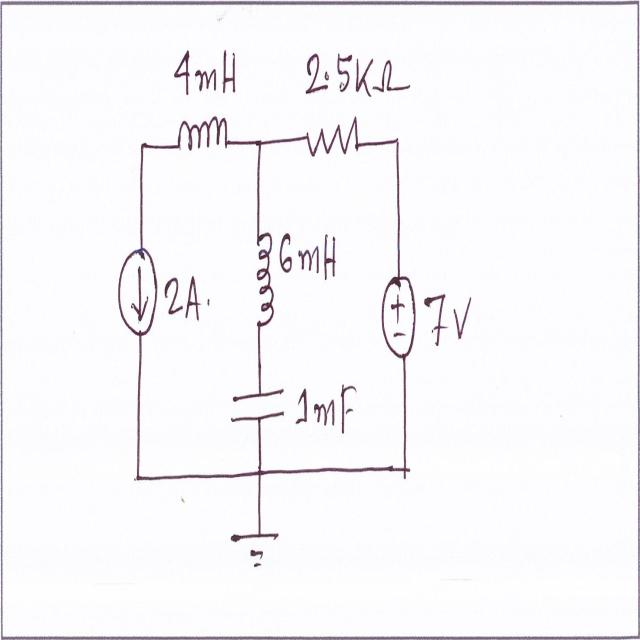capacitor: (228, 379, 284, 437)
current_source: (107, 243, 158, 340)
ground: (226, 522, 288, 572)
inductor: (172, 111, 235, 167), (248, 232, 278, 336)
resistor: (304, 117, 360, 170)
voltage_source: (381, 266, 417, 365)
